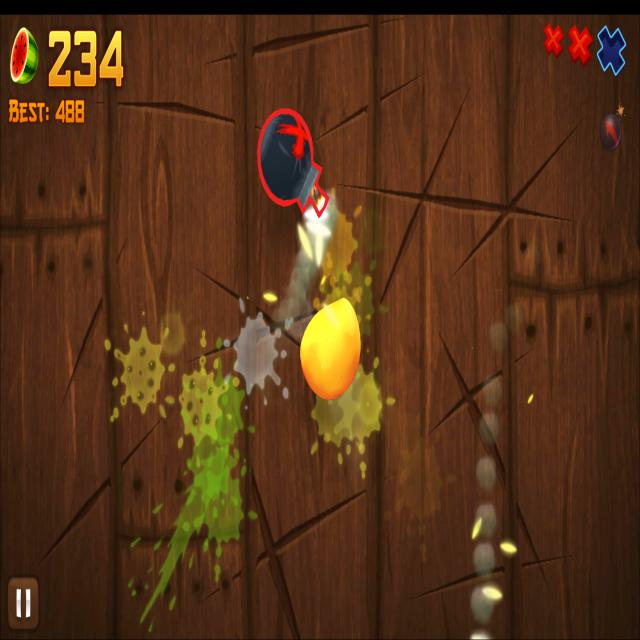bomb: (256, 106, 330, 218)
fruit: (299, 296, 362, 400)
